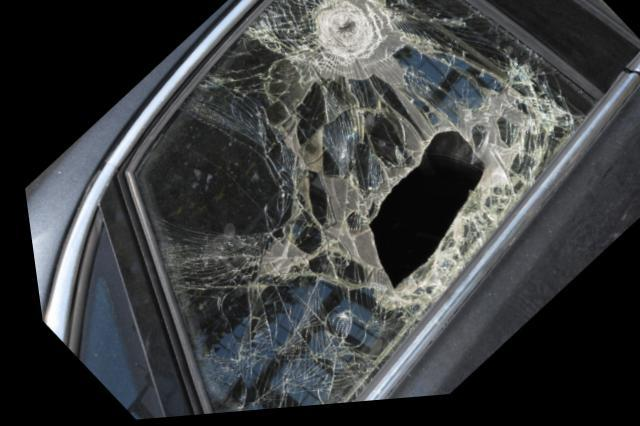glass shatter: (129, 0, 594, 416)
